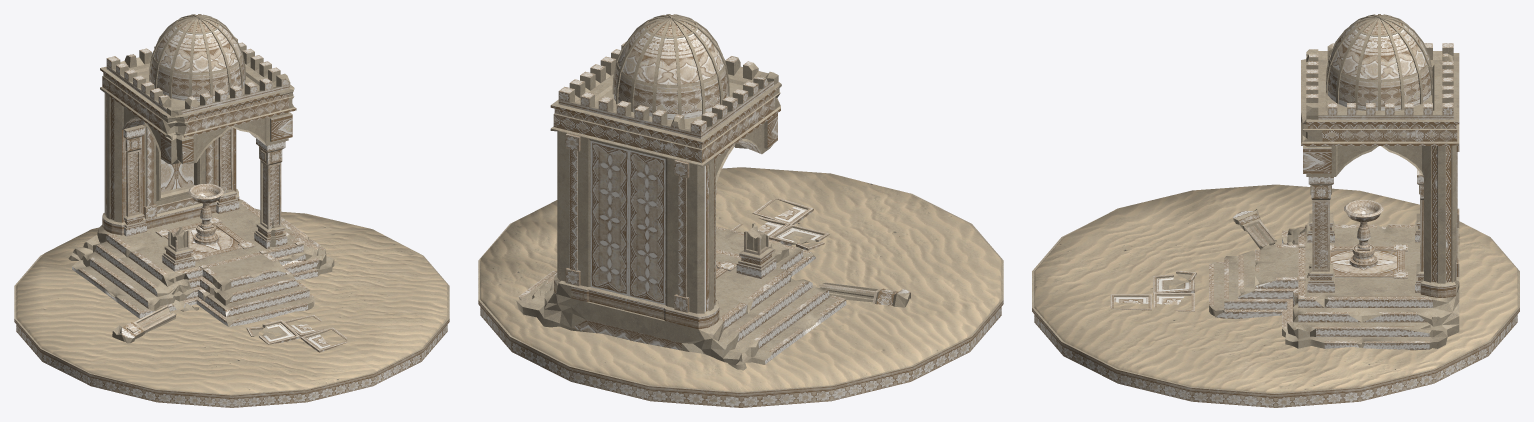
File: arabic_temple_diorama.glb
3 renders of one model, left to right at view 1: azimuth 30°, elevation 25°; view 2: azimuth 150°, elevation 25°; view 3: azimuth 270°, elevation 25°, orthographic. The views are drawn at different scales.
Parts seen in each view (by area): view 1: TEMPLE_02 - Default_0_02_-_Default, TEMPLE_07 - Default_0_07_-_Default, TEMPLE_03 - Default_0_03_-_Default; view 2: TEMPLE_07 - Default_0_07_-_Default, TEMPLE_02 - Default_0_02_-_Default, TEMPLE_03 - Default_0_03_-_Default; view 3: TEMPLE_07 - Default_0_07_-_Default, TEMPLE_02 - Default_0_02_-_Default, TEMPLE_03 - Default_0_03_-_Default.
Boxes of the visible parts, left/top/right/bottom form: TEMPLE_02 - Default_0_02_-_Default: left=14, top=15, right=449, bottom=407; TEMPLE_07 - Default_0_07_-_Default: left=16, top=211, right=447, bottom=394; TEMPLE_03 - Default_0_03_-_Default: left=14, top=14, right=449, bottom=395; TEMPLE_07 - Default_0_07_-_Default: left=480, top=167, right=1001, bottom=391; TEMPLE_02 - Default_0_02_-_Default: left=478, top=15, right=1003, bottom=407; TEMPLE_03 - Default_0_03_-_Default: left=478, top=14, right=1003, bottom=392; TEMPLE_07 - Default_0_07_-_Default: left=1034, top=184, right=1517, bottom=393; TEMPLE_02 - Default_0_02_-_Default: left=1032, top=15, right=1519, bottom=407; TEMPLE_03 - Default_0_03_-_Default: left=1032, top=14, right=1519, bottom=393.
Size of the model in its own units: 8.07 by 5.27 by 7.95.
3 materials, 3 textured.
